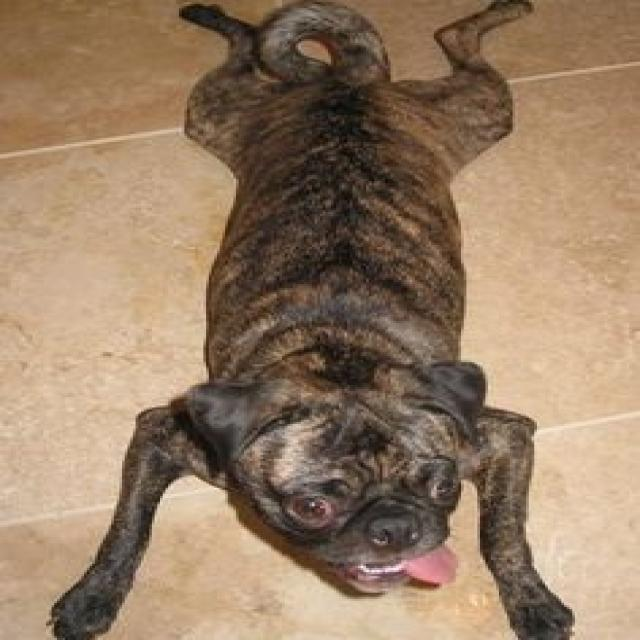dog: (157, 359, 598, 631)
